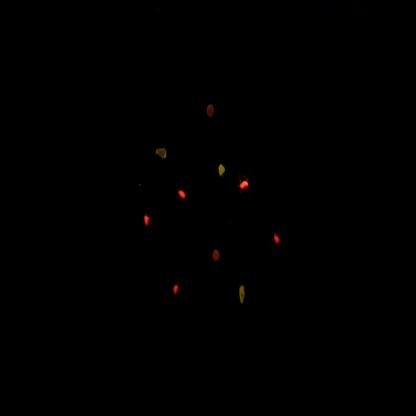PET: (169, 277, 185, 306), (271, 226, 285, 255)
PP: (151, 140, 172, 170), (237, 273, 250, 316), (216, 158, 230, 185)
PS: (205, 100, 219, 124), (211, 244, 223, 268)
PVC: (139, 205, 156, 238), (175, 183, 191, 209), (237, 172, 252, 199)
